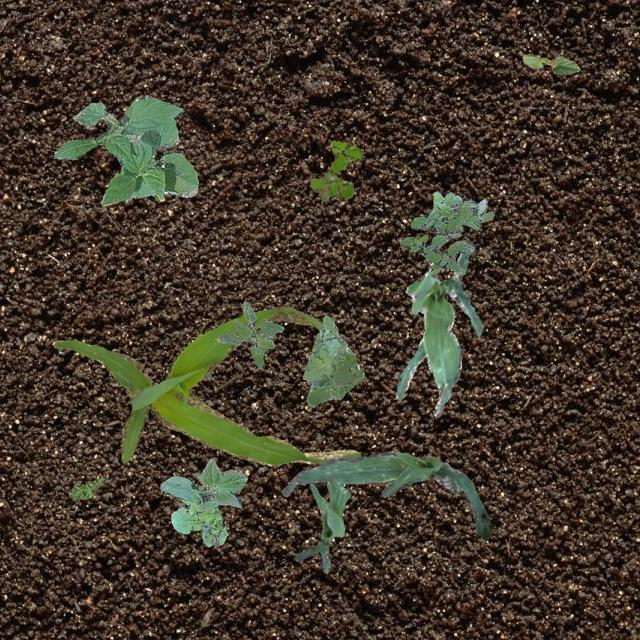crop: (53, 306, 359, 464), (280, 449, 490, 538), (52, 94, 196, 204), (394, 252, 482, 416), (294, 477, 349, 572), (160, 458, 246, 510), (522, 52, 580, 74)
weed: (398, 190, 494, 276), (302, 314, 364, 406), (215, 300, 282, 368), (308, 140, 361, 200), (170, 498, 227, 546), (67, 476, 106, 499)
